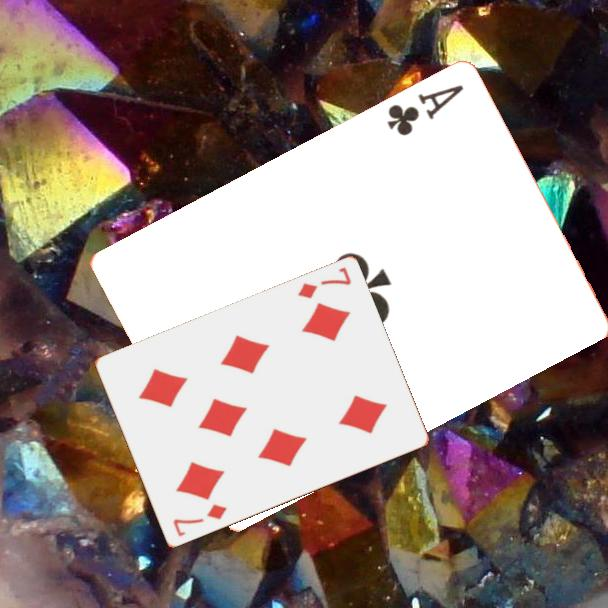c01: (383, 82, 466, 140)
d07: (169, 501, 229, 540), (294, 264, 354, 302)
